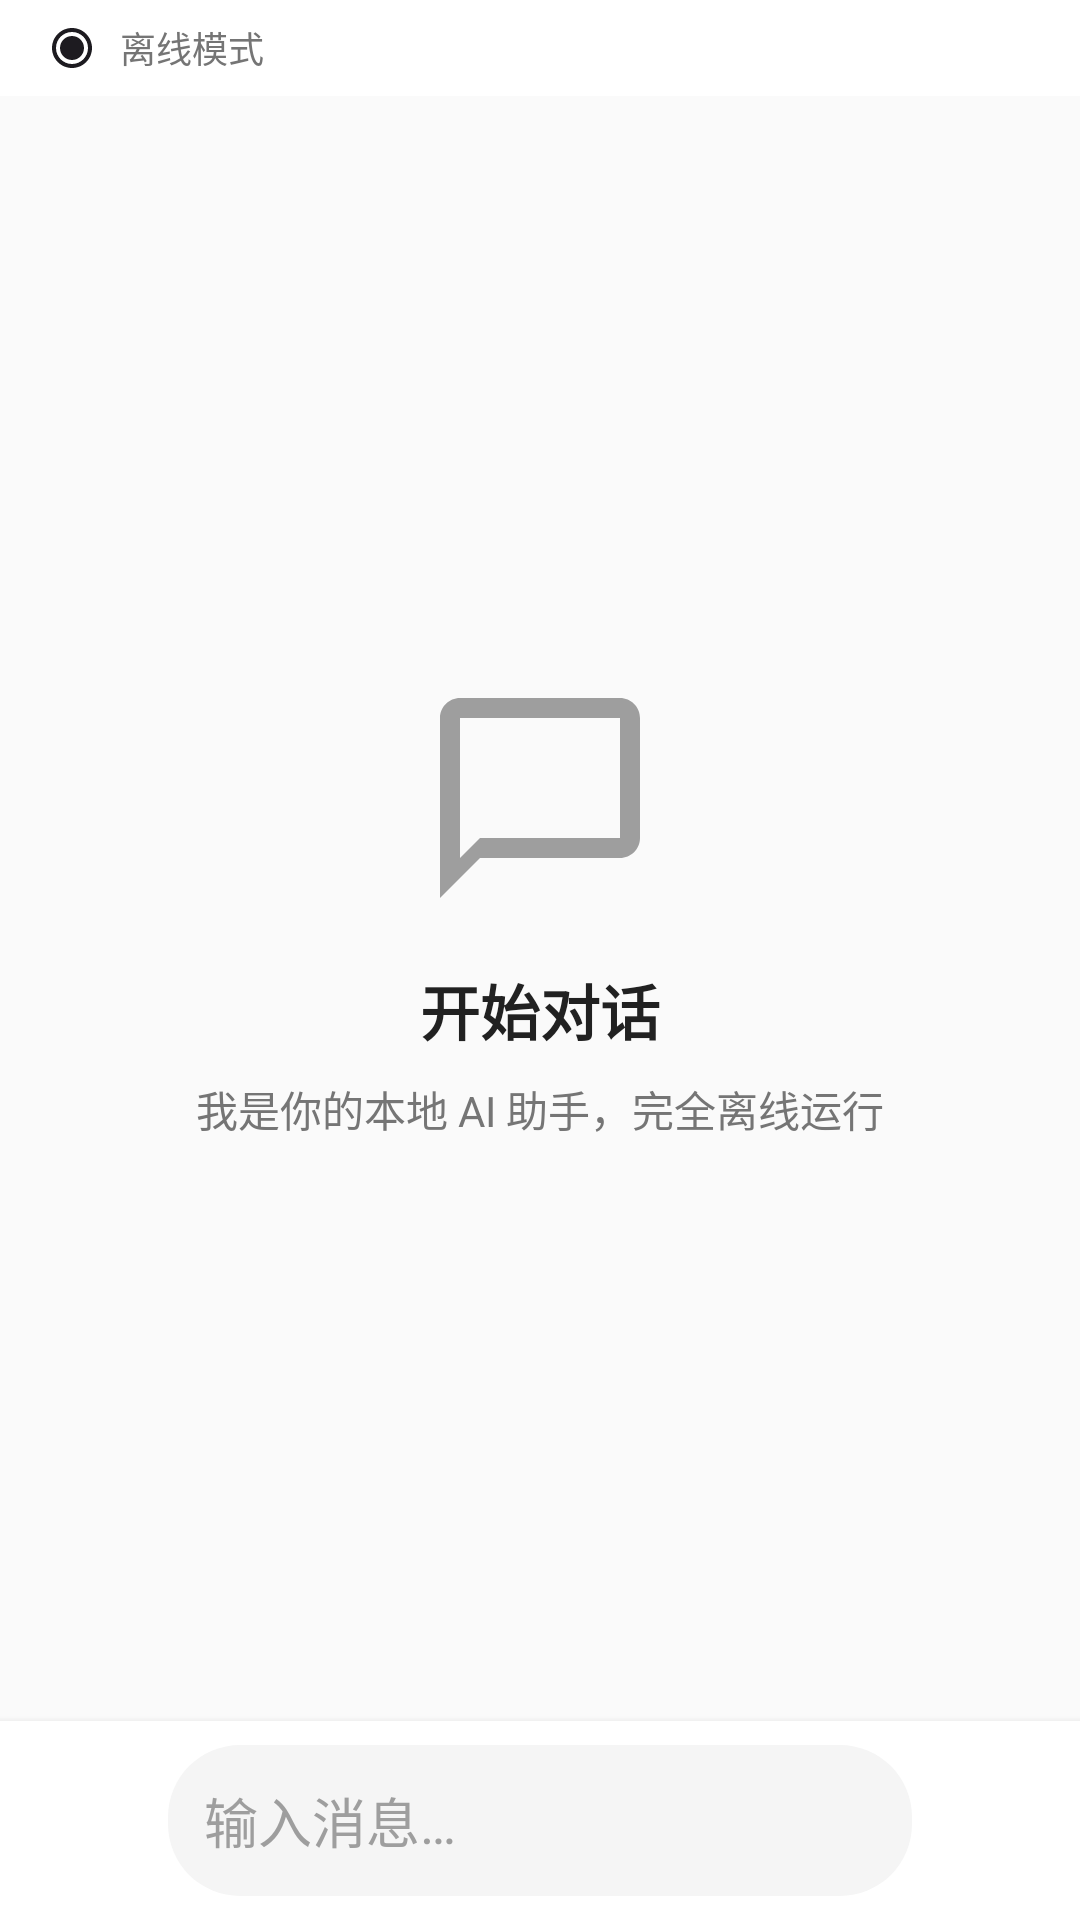

Locate icon controls on the screen. Image size 1080w x 1920h, boxes as bbox=[x1, y1, x2, y2].
chat: bbox=[440, 698, 640, 898]
